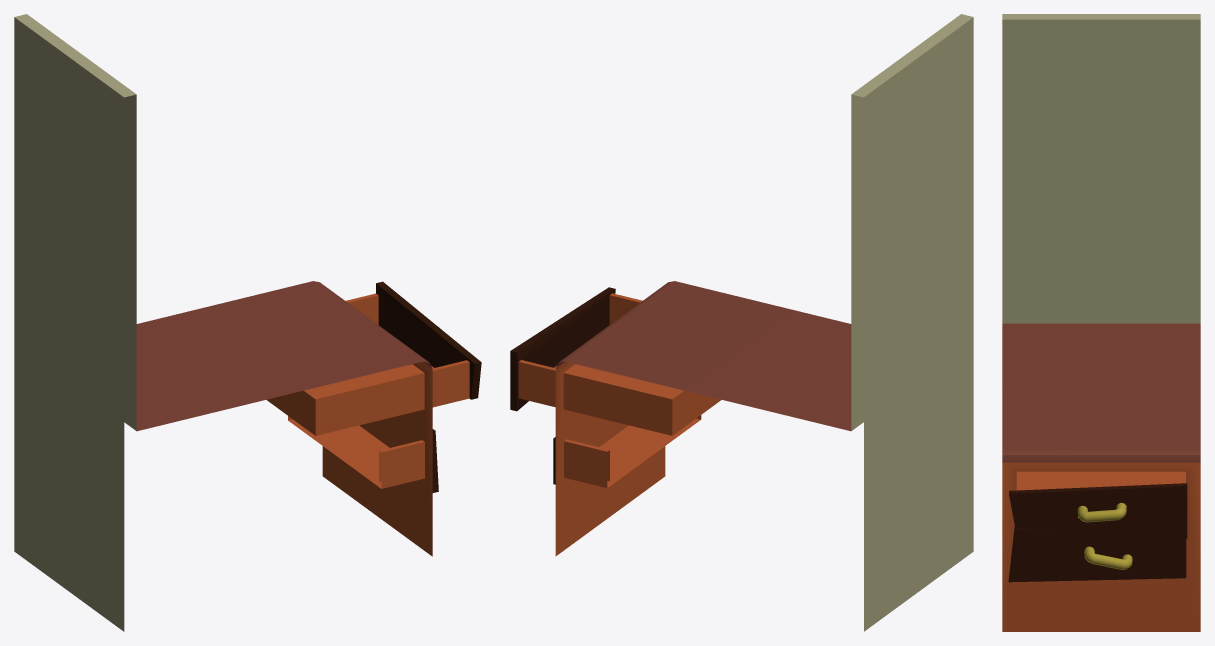
The model's file is CounterSet_Opendrawer_01.fbx.
The picture shows the model from 3 angles, left to right: view 1: azimuth 30°, elevation 25°; view 2: azimuth 150°, elevation 25°; view 3: azimuth 270°, elevation 25°; orthographic projection. The views are drawn at different scales.
Visible parts, largest first — view 1: polySurface50, polySurface29, polySurface52; view 2: polySurface50, polySurface29, polySurface52; view 3: polySurface50, polySurface29, polySurface52.
Part boxes in pixels (x1=…): polySurface50: x1=14, y1=14, x2=432, y2=631; polySurface29: x1=346, y1=281, x2=481, y2=423; polySurface52: x1=288, y1=416, x2=438, y2=492; polySurface50: x1=555, y1=14, x2=973, y2=631; polySurface29: x1=510, y1=287, x2=642, y2=411; polySurface52: x1=553, y1=415, x2=701, y2=488; polySurface50: x1=1002, y1=14, x2=1200, y2=631; polySurface29: x1=1009, y1=471, x2=1187, y2=538; polySurface52: x1=1008, y1=526, x2=1186, y2=582.
Bounding box in the file's own units: 4318 × 5808 × 2166.
